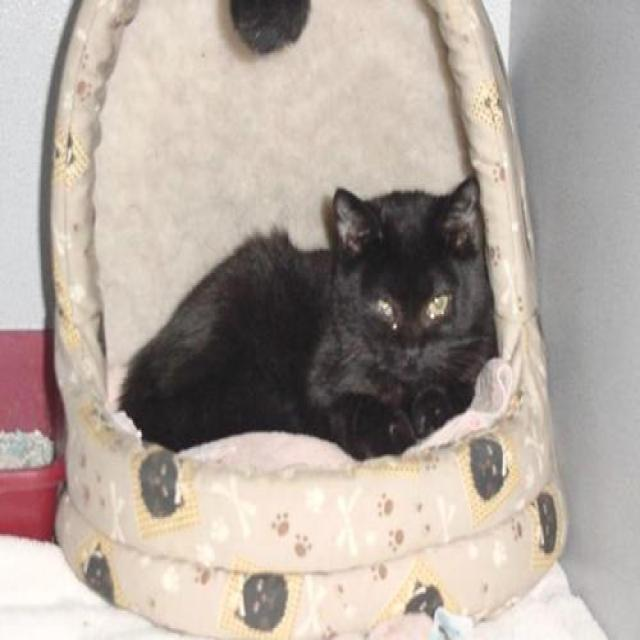Cats: (114, 172, 498, 461)
